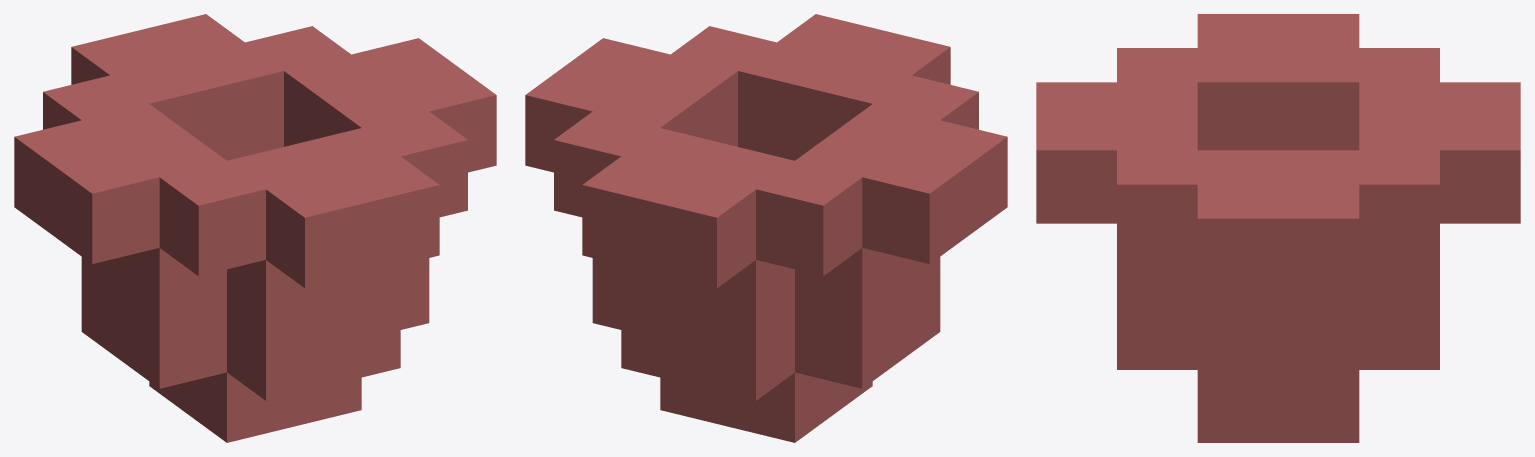
File: pot_1_v1.fbx
The picture shows the model from 3 angles, left to right: view 1: azimuth 30°, elevation 25°; view 2: azimuth 150°, elevation 25°; view 3: azimuth 270°, elevation 25°; orthographic projection. The views are drawn at different scales.
Parts seen in each view (by area): view 1: pot_1; view 2: pot_1; view 3: pot_1.
Boxes of the visible parts, left/top/right/bottom form: pot_1: left=14, top=14, right=496, bottom=442; pot_1: left=525, top=14, right=1007, bottom=442; pot_1: left=1036, top=14, right=1520, bottom=442.
Bounding box in the file's own units: 6 × 4 × 6.
